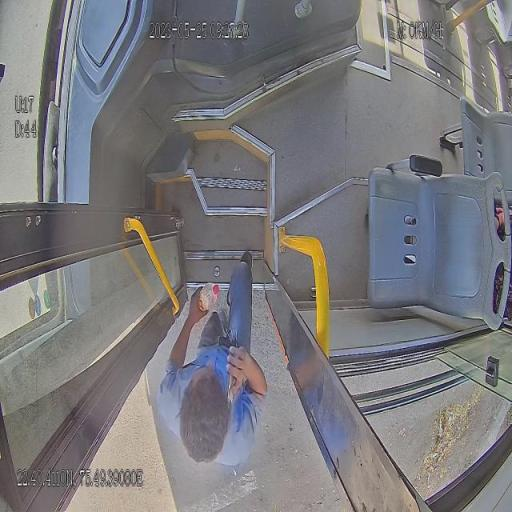persona: (155, 250, 269, 468)
